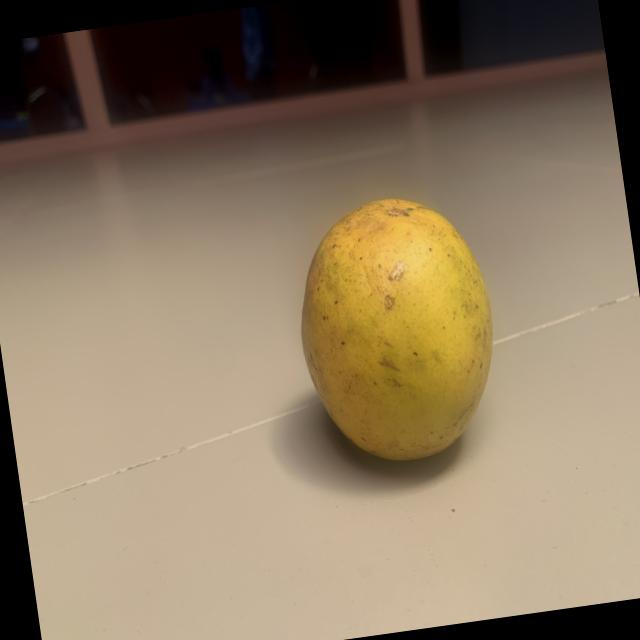Ripe orange: (262, 168, 527, 498)
